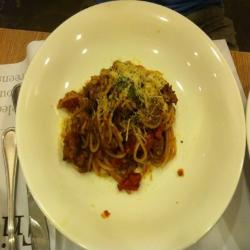bolonese_pasta: (53, 60, 188, 190)
